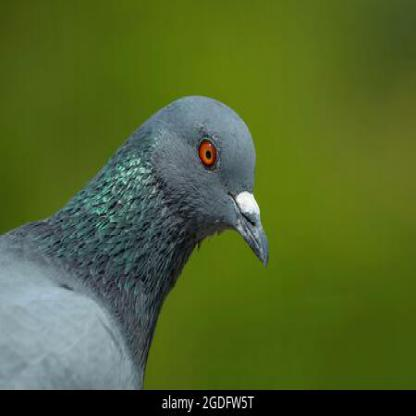Flying Rat: (1, 89, 275, 392)
